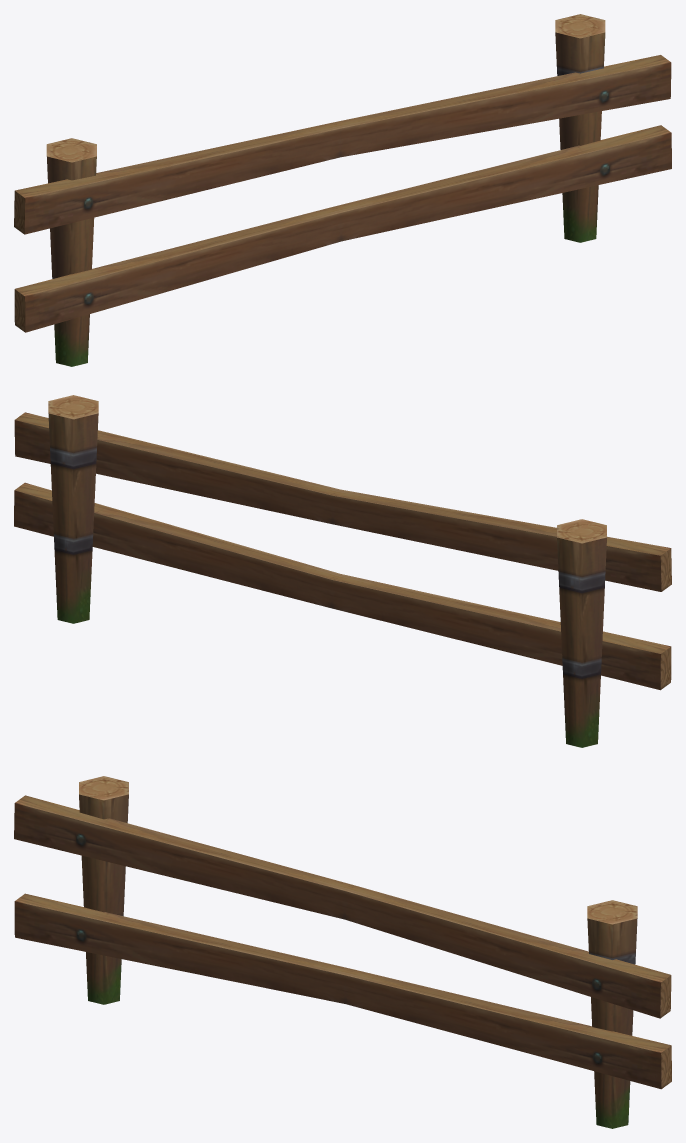
Rendered from scene_shenmisenlin_wl01.FBX.
The picture shows the model from 3 angles, top to bottom: view 1: azimuth 30°, elevation 25°; view 2: azimuth 150°, elevation 25°; view 3: azimuth 330°, elevation 25°; orthographic projection.
Visible parts, largest first — view 1: scene_shenmisenlin_wl01; view 2: scene_shenmisenlin_wl01; view 3: scene_shenmisenlin_wl01.
Part boxes in pixels (left/top/right/bottom): scene_shenmisenlin_wl01: left=14, top=14, right=671, bottom=366; scene_shenmisenlin_wl01: left=14, top=395, right=671, bottom=747; scene_shenmisenlin_wl01: left=14, top=776, right=671, bottom=1128.
Bounding box in the file's own units: 292 × 89.85 × 26.4.
